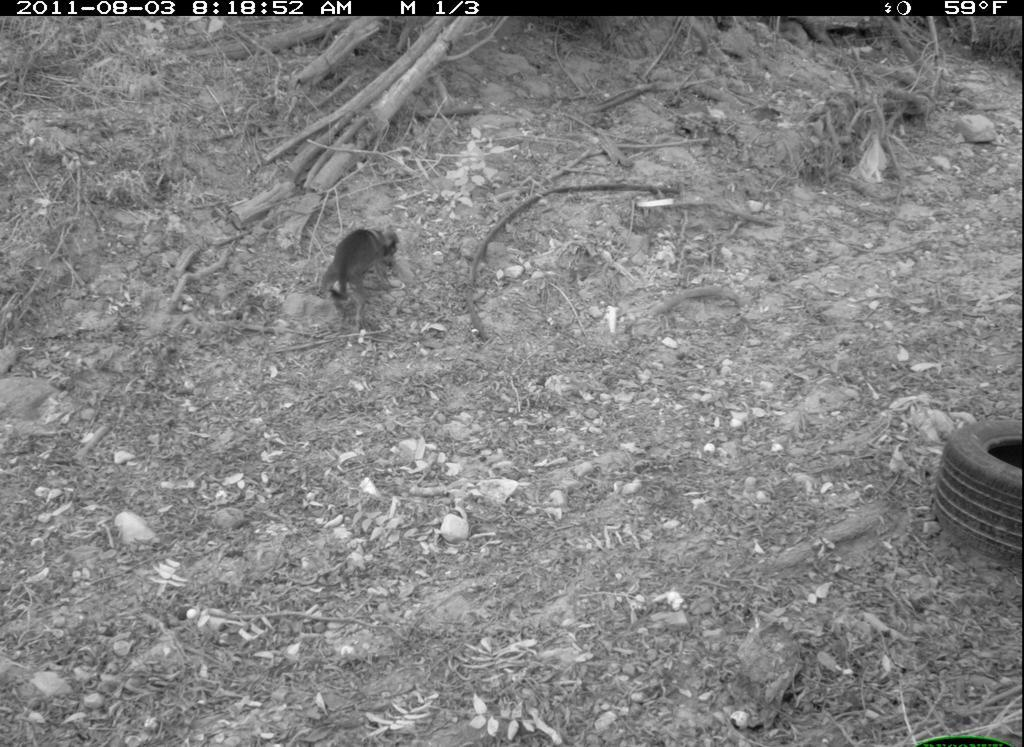dog: (318, 218, 415, 323)
